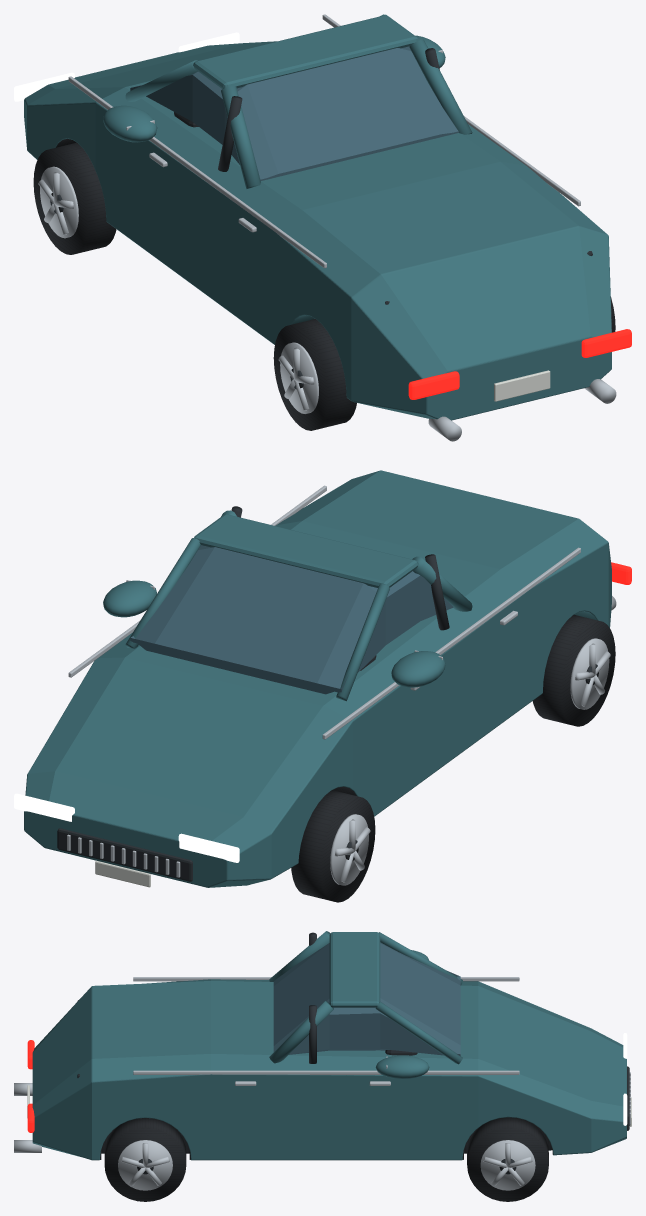
File: mc_pickup.glb
3 views of the same model, one above another, from view 1: azimuth 30°, elevation 25°; view 2: azimuth 150°, elevation 25°; view 3: azimuth 270°, elevation 25° (orthographic). The views are drawn at different scales.
Parts seen in each view (by area): view 1: mc_pickup__Geometry, mc_pickup__Wheel_L.001, mc_pickup__Wheel_L; view 2: mc_pickup__Geometry, mc_pickup__Wheel_L.001, mc_pickup__Wheel_L; view 3: mc_pickup__Geometry, mc_pickup__Wheel_R.001, mc_pickup__Wheel_R.
Part boxes in pixels (left/top/right/bottom): mc_pickup__Geometry: left=14, top=14, right=631, bottom=441; mc_pickup__Wheel_L.001: left=33, top=142, right=116, bottom=254; mc_pickup__Wheel_L: left=273, top=319, right=356, bottom=430; mc_pickup__Geometry: left=14, top=470, right=631, bottom=887; mc_pickup__Wheel_L.001: left=291, top=790, right=375, bottom=902; mc_pickup__Wheel_L: left=532, top=614, right=615, bottom=726; mc_pickup__Geometry: left=14, top=931, right=631, bottom=1190; mc_pickup__Wheel_R.001: left=467, top=1117, right=548, bottom=1201; mc_pickup__Wheel_R: left=104, top=1118, right=186, bottom=1201.
Size of the model in its own units: 2.56 by 1.79 by 5.51.
Materials: 9 (2 with a texture image).
